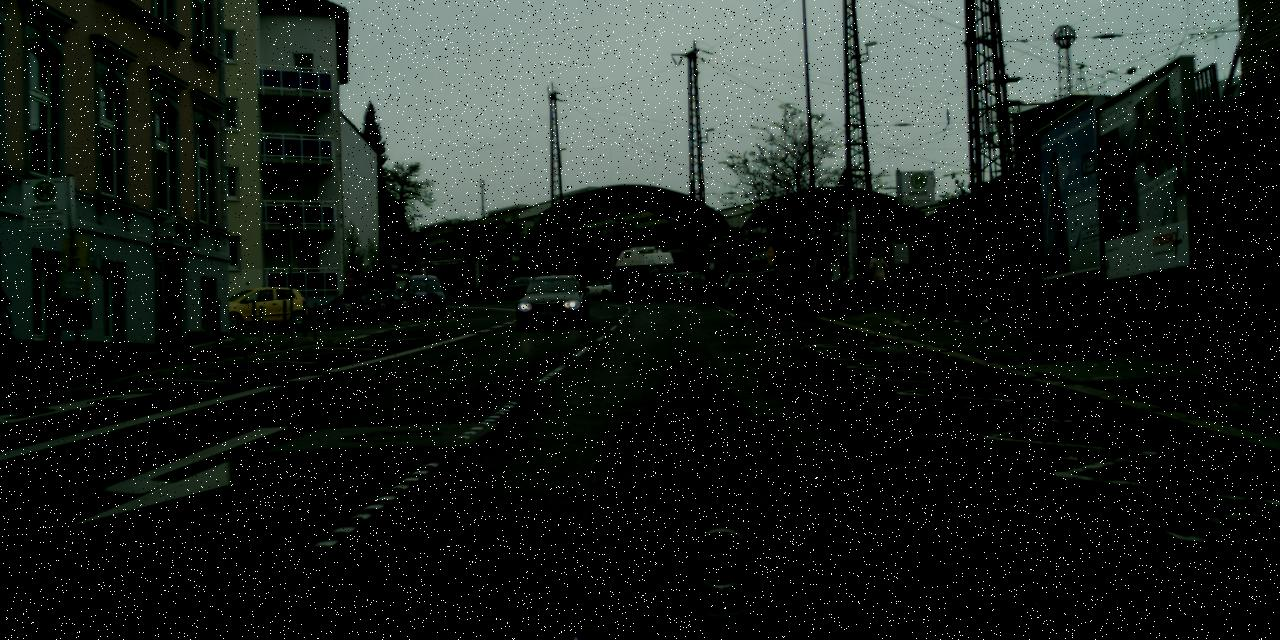ped: (867, 247, 891, 307)
